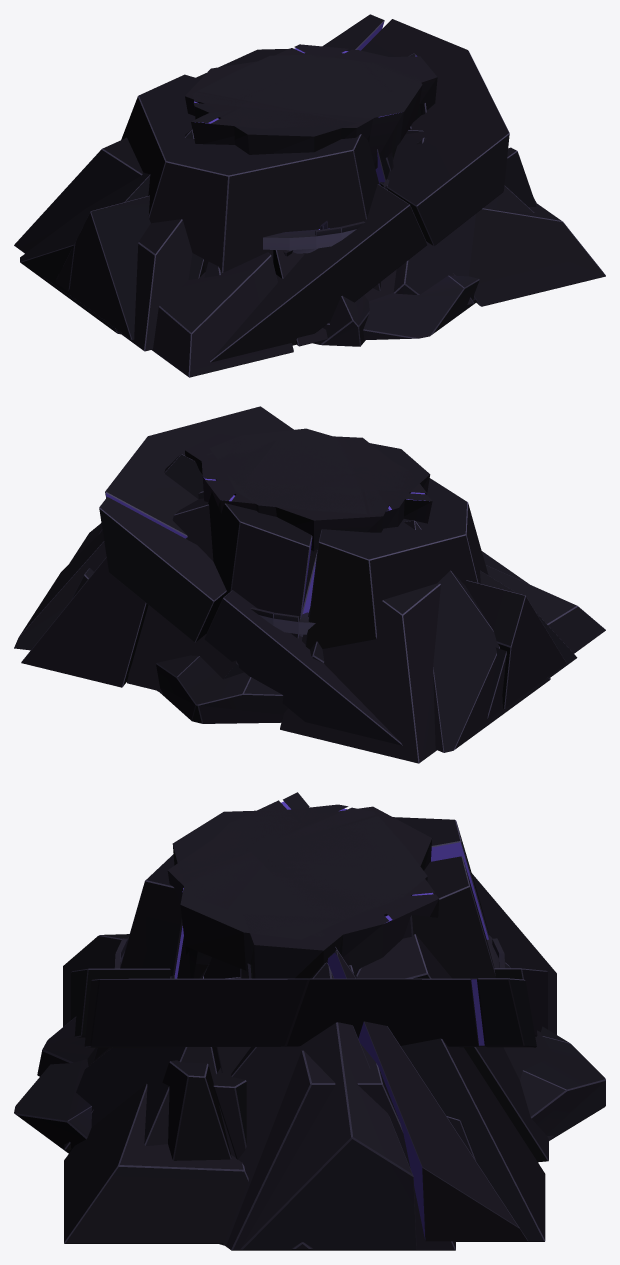
The model's file is umbra-kit.glb.
3 renders of one model, top to bottom at view 1: azimuth 30°, elevation 25°; view 2: azimuth 150°, elevation 25°; view 3: azimuth 270°, elevation 25°, orthographic. The views are drawn at different scales.
Parts seen in each view (by area): view 1: umb_hill_4, umb_hill_2, umb_hill_6, umb_float_0, umb_hill_0, umb_float_1, umb_hill_3, umb_hill_1, umb_hill_5, umb_hill_7, umb_dock_0; view 2: umb_hill_6, umb_hill_4, umb_hill_2, umb_float_1, umb_hill_7, umb_float_0, umb_hill_0, umb_hill_5, umb_float_2, umb_hill_3, umb_dock_0, umb_hill_1; view 3: umb_hill_7, umb_hill_6, umb_hill_4, umb_float_0, umb_hill_2, umb_float_1, umb_hill_5, umb_hill_3, umb_hill_1, umb_float_2, umb_dock_0.
Part boxes in pixels (x1,y1,x2,y2): umb_hill_4: (210, 14, 509, 362); umb_hill_2: (121, 48, 536, 291); umb_hill_6: (14, 137, 605, 377); umb_float_0: (193, 54, 422, 171); umb_hill_0: (55, 195, 150, 340); umb_float_1: (185, 44, 437, 144); umb_hill_3: (313, 130, 534, 346); umb_hill_1: (45, 219, 192, 351); umb_hill_5: (322, 275, 479, 339); umb_hill_7: (20, 53, 536, 334); umb_dock_0: (263, 179, 389, 256); umb_hill_6: (21, 498, 605, 763); umb_hill_4: (71, 406, 529, 745); umb_hill_2: (208, 478, 488, 649); umb_float_1: (185, 433, 432, 551); umb_hill_7: (14, 454, 550, 752); umb_float_0: (209, 428, 430, 528); umb_hill_0: (465, 580, 566, 719); umb_hill_5: (156, 655, 287, 723); umb_float_2: (207, 442, 386, 503); umb_hill_3: (128, 640, 324, 693); umb_dock_0: (250, 607, 315, 636); umb_hill_1: (99, 491, 577, 729); umb_hill_7: (219, 947, 527, 1249); umb_hill_6: (63, 873, 556, 1243); umb_hill_4: (71, 968, 547, 1161); umb_float_0: (172, 804, 427, 978); umb_hill_2: (93, 817, 495, 1160); umb_float_1: (167, 792, 439, 978); umb_hill_5: (14, 1026, 605, 1153); umb_hill_3: (37, 962, 553, 1145); umb_hill_1: (225, 965, 455, 1250); umb_float_2: (192, 823, 414, 936); umb_dock_0: (114, 935, 505, 978).
Bounding box in the file's own units: 3 × 1.15 × 2.6.
